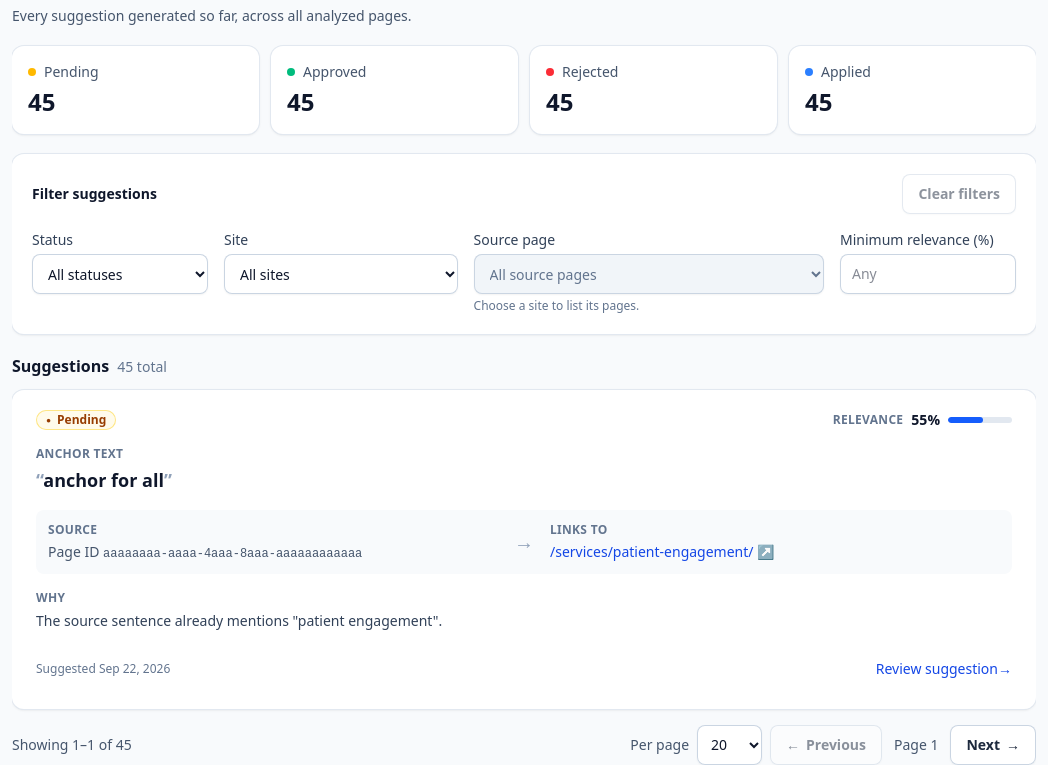
InterlinkPage › pagination › moves through backend pages via the URL
(page scrolled)
Expected: the text "Showing 1–1 of 45" is shown, [12, 735, 132, 755]
Click the button "Next →": (993, 745) [950, 725, 1036, 764]
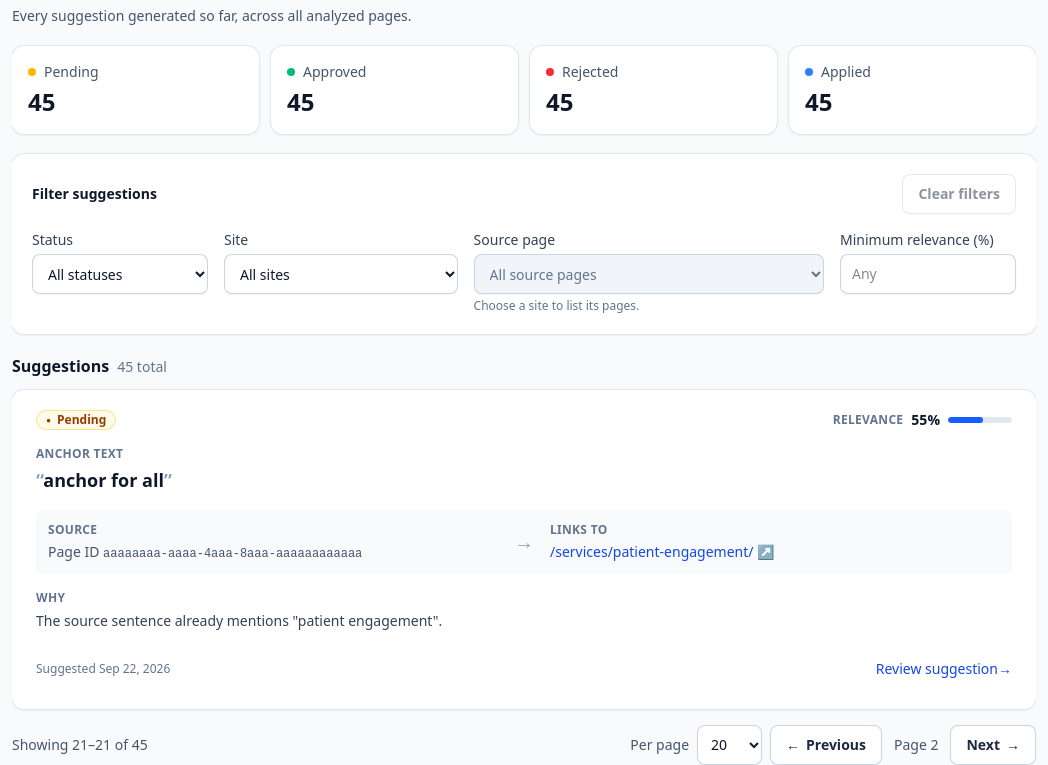
Result: the text "Showing 21–21 of 45" is shown at [12, 735, 148, 755]
